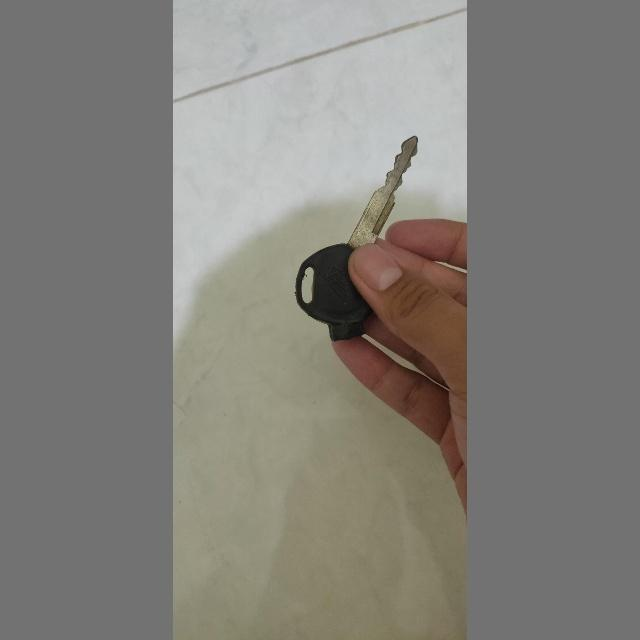Keys: (287, 130, 429, 346)
